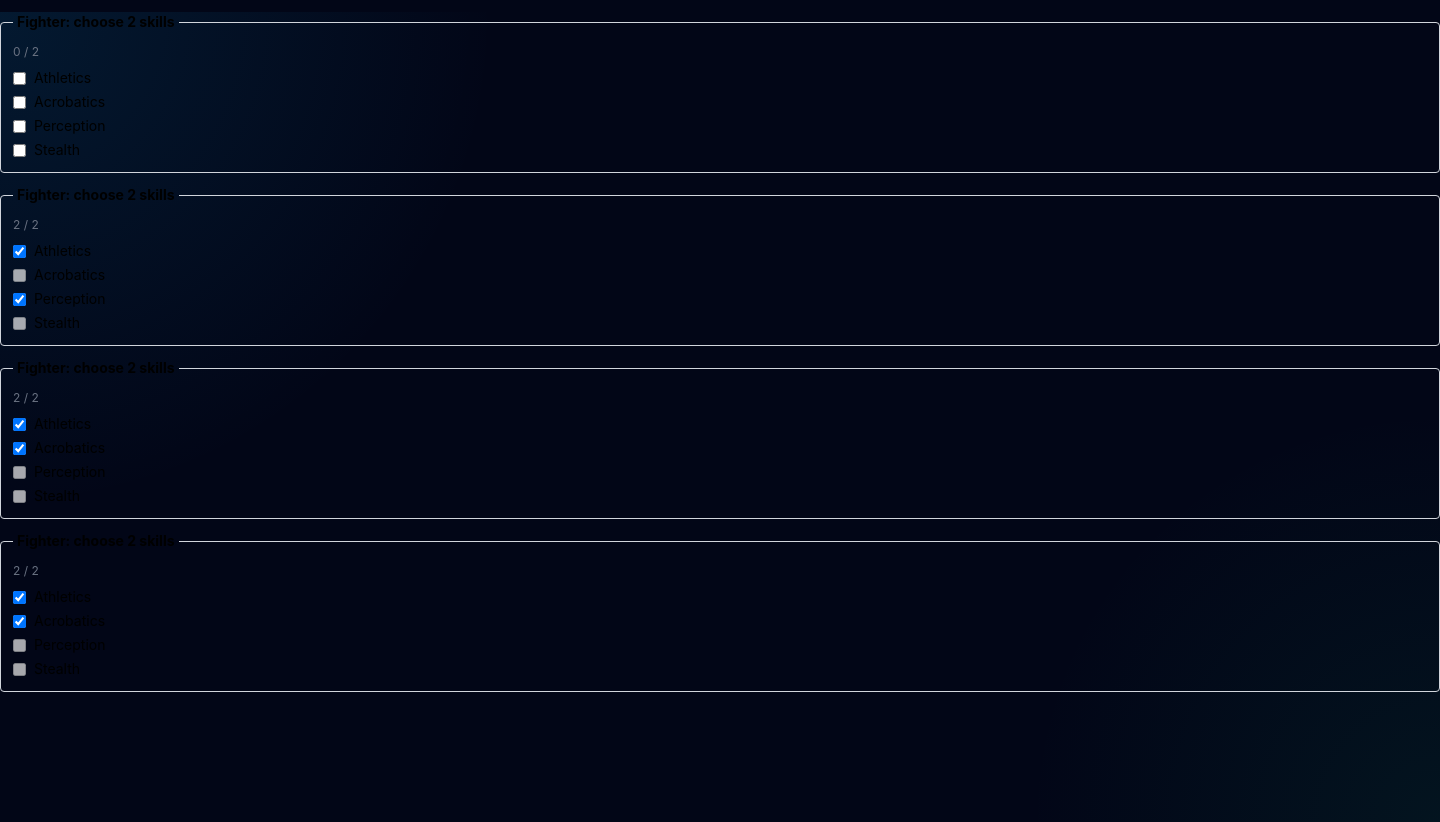
Scenario: ChoicePicker › unchecking a selected box re-enables the others
Click the 4th checkbox labelled "Athletics" at (20, 597), box x1=13 y1=590 x2=26 y2=604
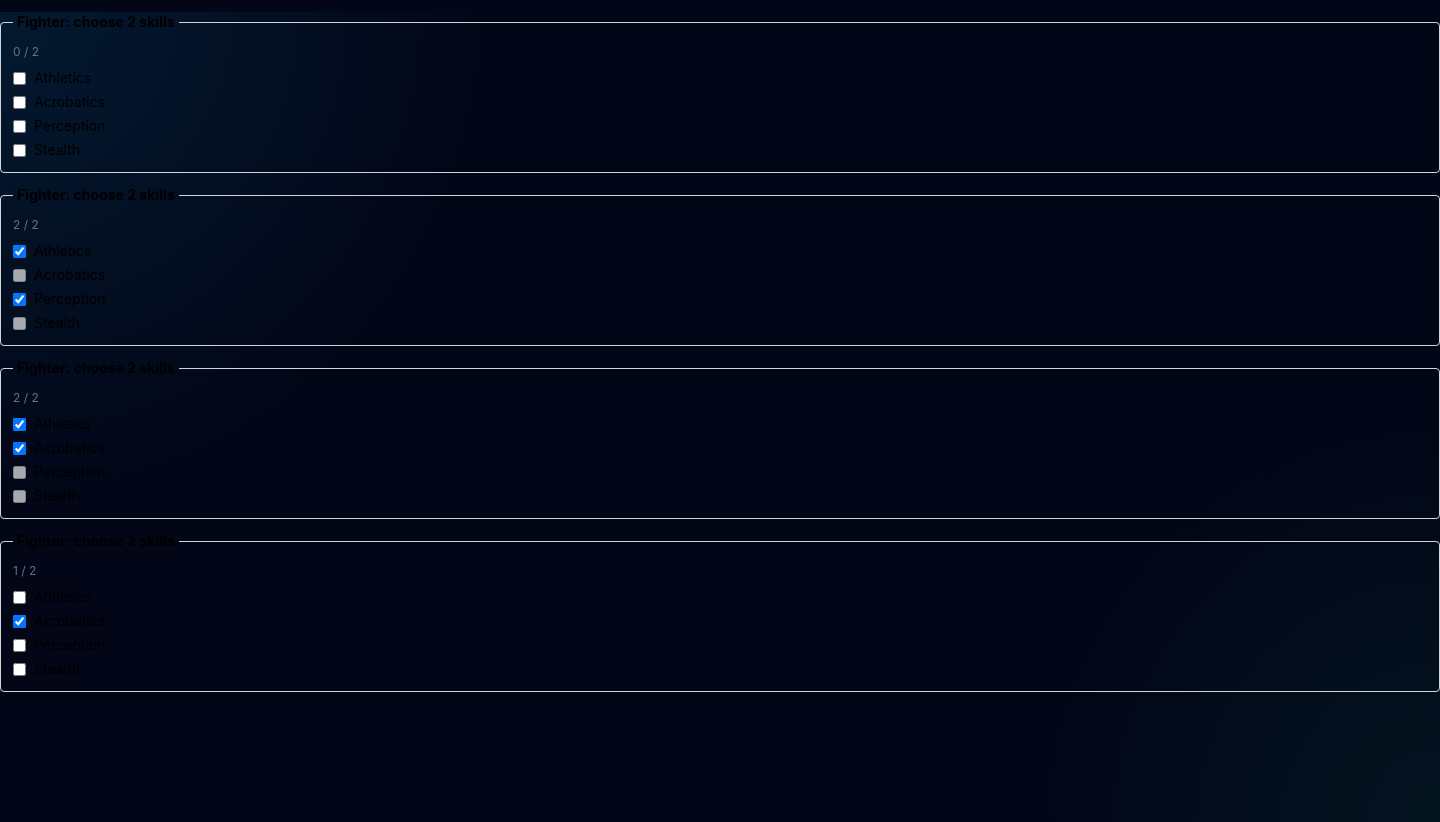
Now the 4th checkbox labelled "Perception" is enabled, box x1=13 y1=638 x2=26 y2=652
Now the 4th checkbox labelled "Stealth" is enabled, box x1=13 y1=662 x2=26 y2=676
